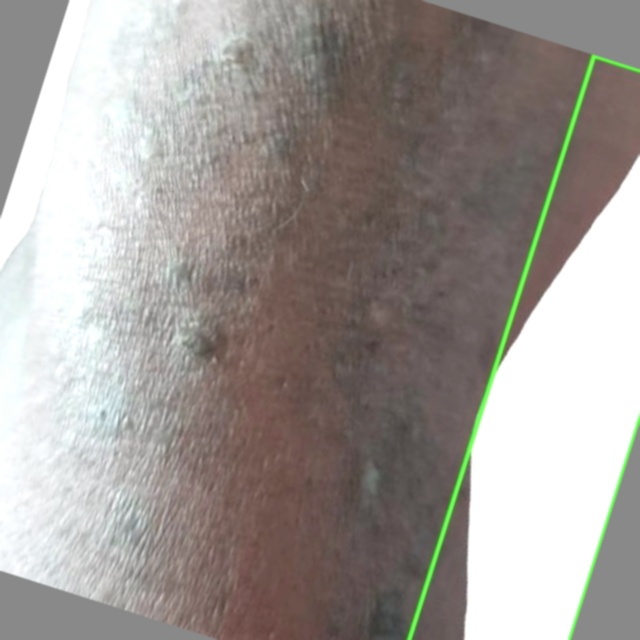Contact Dermatitis: (409, 55, 639, 639)
